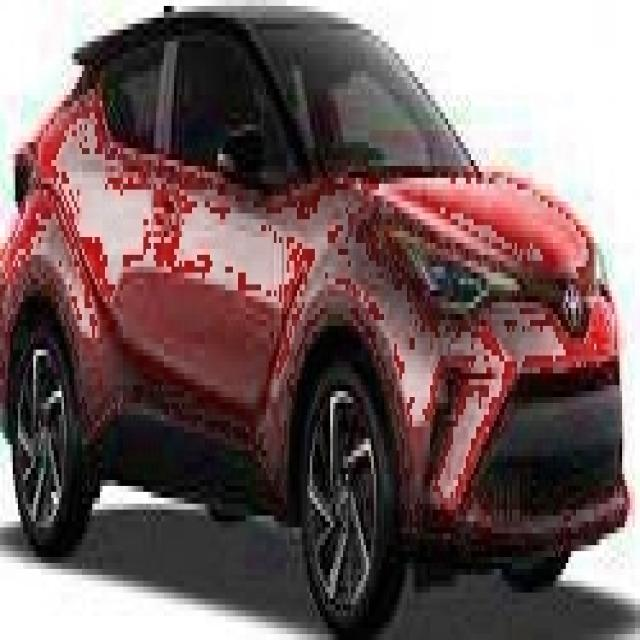maroon: (1, 21, 631, 607)
